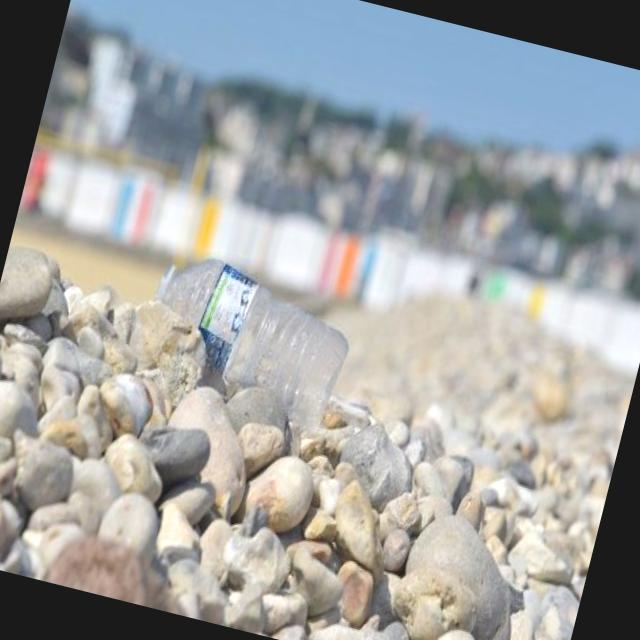garbage: (132, 238, 386, 436)
